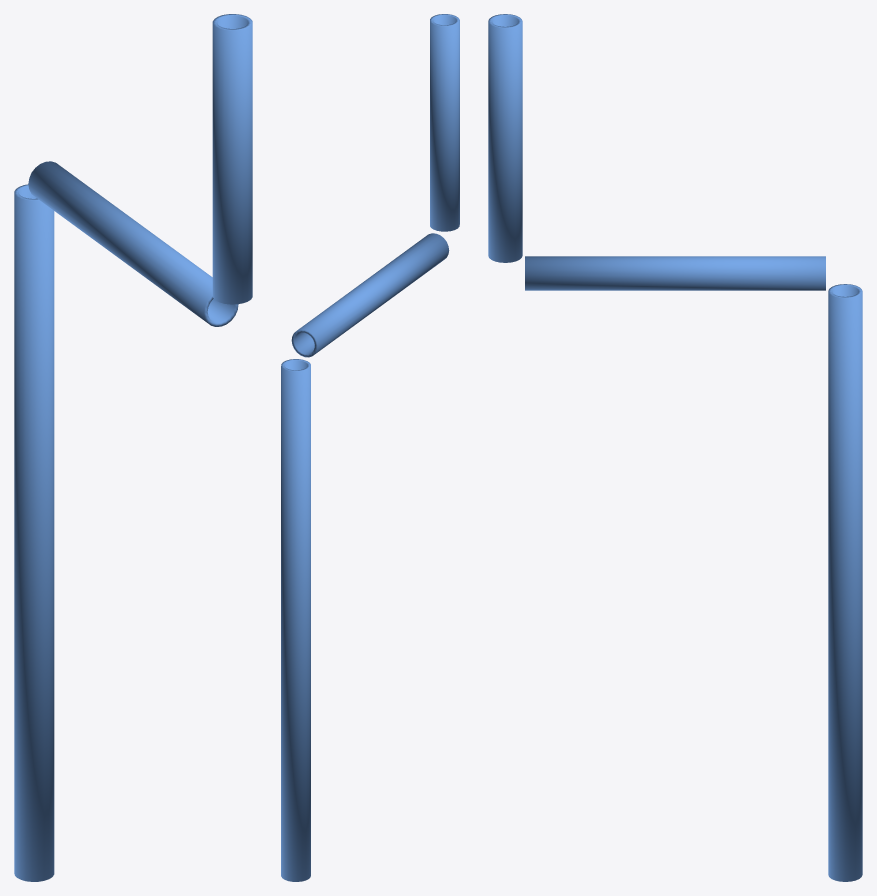
Rendered from slab_pipes_supply__water-city_filter_and_softener-no_and_plumbing-attic_repipe+pex.glb.
3 views of the same model, side by side, from view 1: azimuth 30°, elevation 25°; view 2: azimuth 150°, elevation 25°; view 3: azimuth 270°, elevation 25° (orthographic). The views are drawn at different scales.
Visible parts, largest first — view 1: pipe_supply_closet_riser__pex; view 2: pipe_supply_closet_riser__pex; view 3: pipe_supply_closet_riser__pex.
Part boxes in pixels (x1=…): pipe_supply_closet_riser__pex: x1=14, y1=14, x2=252, y2=881; pipe_supply_closet_riser__pex: x1=281, y1=14, x2=459, y2=881; pipe_supply_closet_riser__pex: x1=488, y1=14, x2=862, y2=881.
Size of the model in its own units: 0.0222 by 0.6093 by 0.2422.
